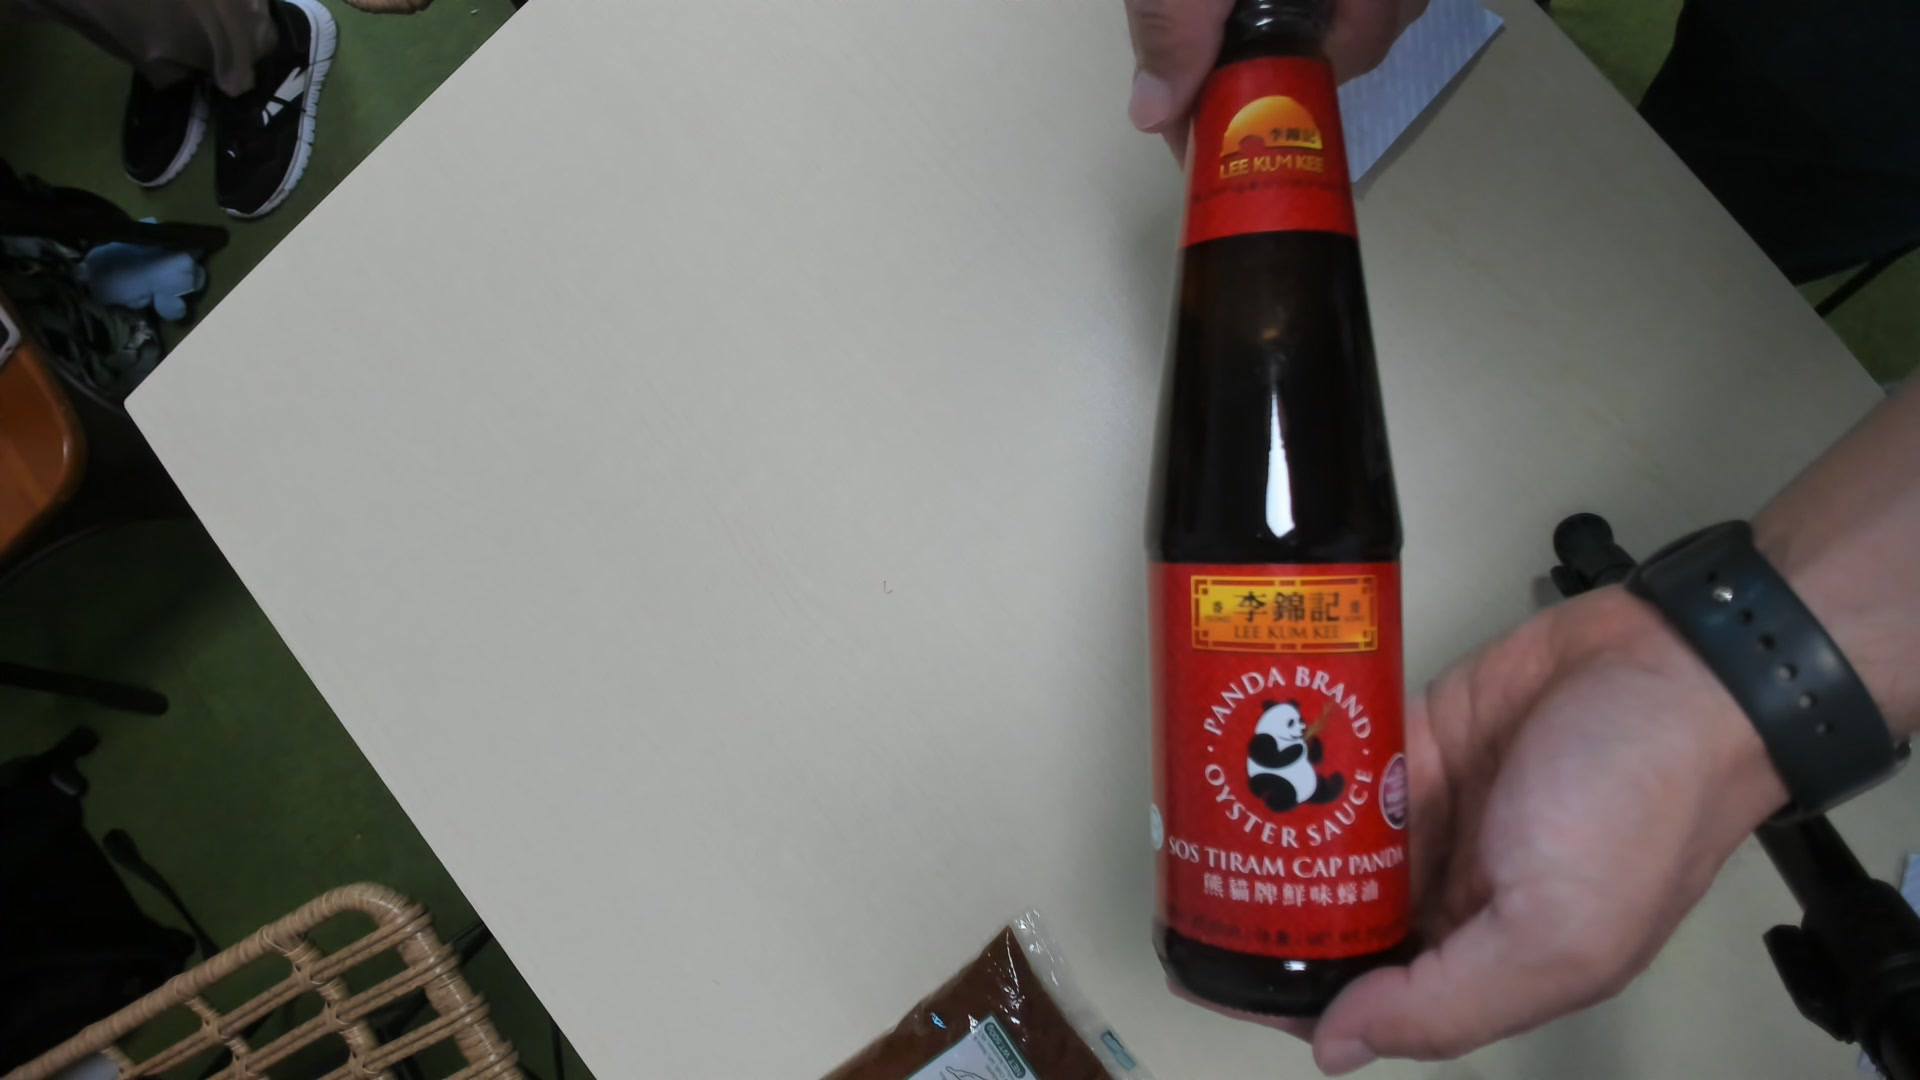OtherSauceDressingSoupbasePaste_500-599g_Halal_NonHealthy: (1150, 7, 1424, 1019)
